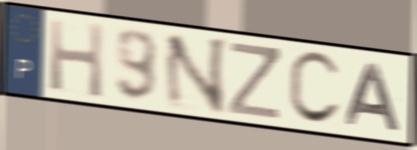9: (113, 26, 159, 105)
A: (343, 61, 404, 134)
C: (286, 49, 344, 128)
H: (46, 16, 106, 102)
N: (162, 33, 231, 117)
Z: (226, 39, 282, 122)
